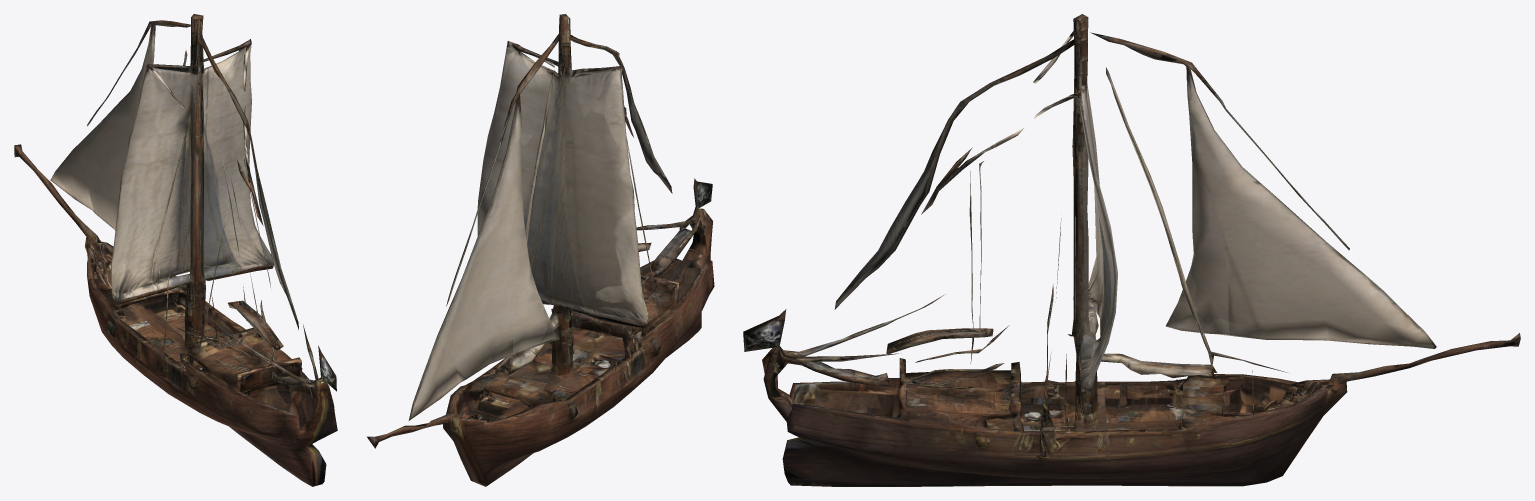
File: sloop.glb
3 views of the same model, side by side, from view 1: azimuth 30°, elevation 25°; view 2: azimuth 150°, elevation 25°; view 3: azimuth 270°, elevation 25° (orthographic). The views are drawn at different scales.
Size of the model in its own units: 0.5736 by 1.31 by 1.97.
Materials: 1 (1 with a texture image).
